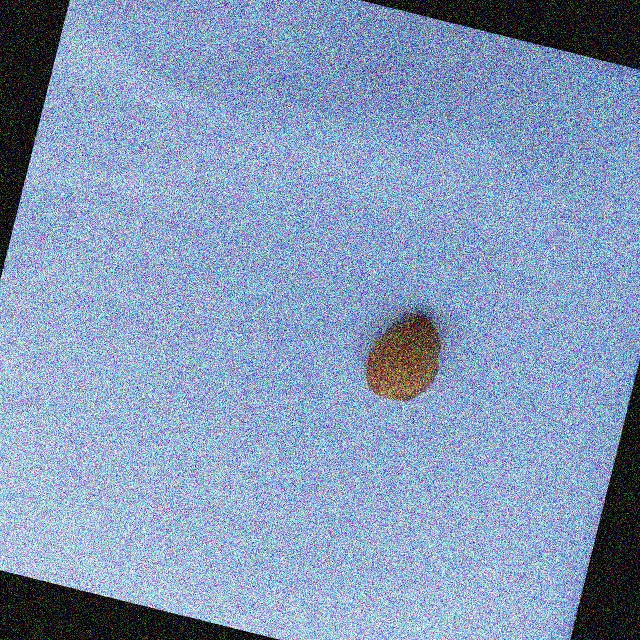grade2: (353, 300, 454, 412)
